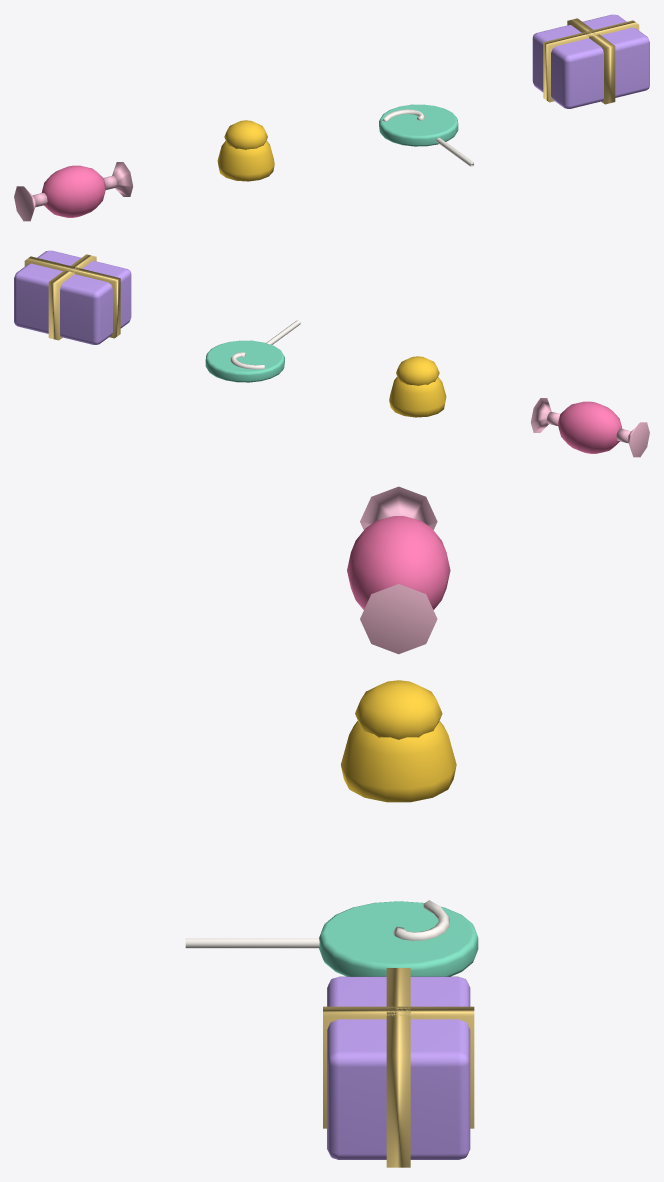
File: candy_sweets.glb
3 views of the same model, one above another, from view 1: azimuth 30°, elevation 25°; view 2: azimuth 150°, elevation 25°; view 3: azimuth 270°, elevation 25° (orthographic). The views are drawn at different scales.
Visible parts, largest first — view 1: SweetBox, SweetWrapped, SweetSwirl, SweetDrop; view 2: SweetBox, SweetWrapped, SweetSwirl, SweetDrop; view 3: SweetBox, SweetWrapped, SweetSwirl, SweetDrop.
Boxes of the visible parts, box(x1,y1,x2,y2) form: SweetBox: box(532, 14, 649, 108); SweetWrapped: box(14, 162, 133, 221); SweetSwirl: box(379, 104, 473, 166); SweetDrop: box(217, 120, 274, 181); SweetBox: box(14, 250, 131, 344); SweetWrapped: box(530, 398, 649, 457); SweetSwirl: box(205, 320, 300, 382); SweetDrop: box(389, 356, 446, 417); SweetBox: box(323, 968, 474, 1167); SweetWrapped: box(347, 486, 450, 654); SweetSwirl: box(185, 900, 478, 976); SweetDrop: box(341, 680, 456, 802).
Size of the model in its own units: 3.55 by 0.31 by 0.735.
